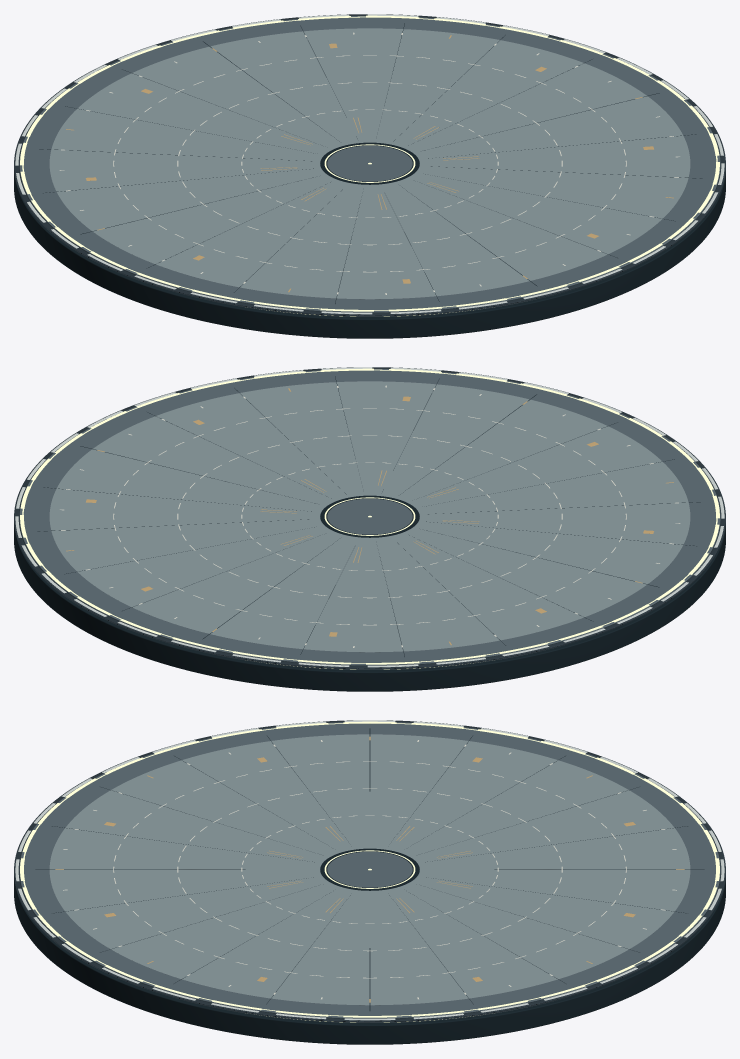
File: SM_ClassicArena_Premium.glb
3 views of the same model, one above another, from view 1: azimuth 30°, elevation 25°; view 2: azimuth 150°, elevation 25°; view 3: azimuth 270°, elevation 25° (orthographic).
Parts seen in each view (by area): view 1: SM_ClassicArena_Premium; view 2: SM_ClassicArena_Premium; view 3: SM_ClassicArena_Premium.
Boxes of the visible parts, x1,y1,x2,y2 form: SM_ClassicArena_Premium: (14, 14, 725, 338); SM_ClassicArena_Premium: (14, 367, 725, 691); SM_ClassicArena_Premium: (14, 720, 725, 1044).
Size of the model in its own units: 13 by 0.5067 by 13.
